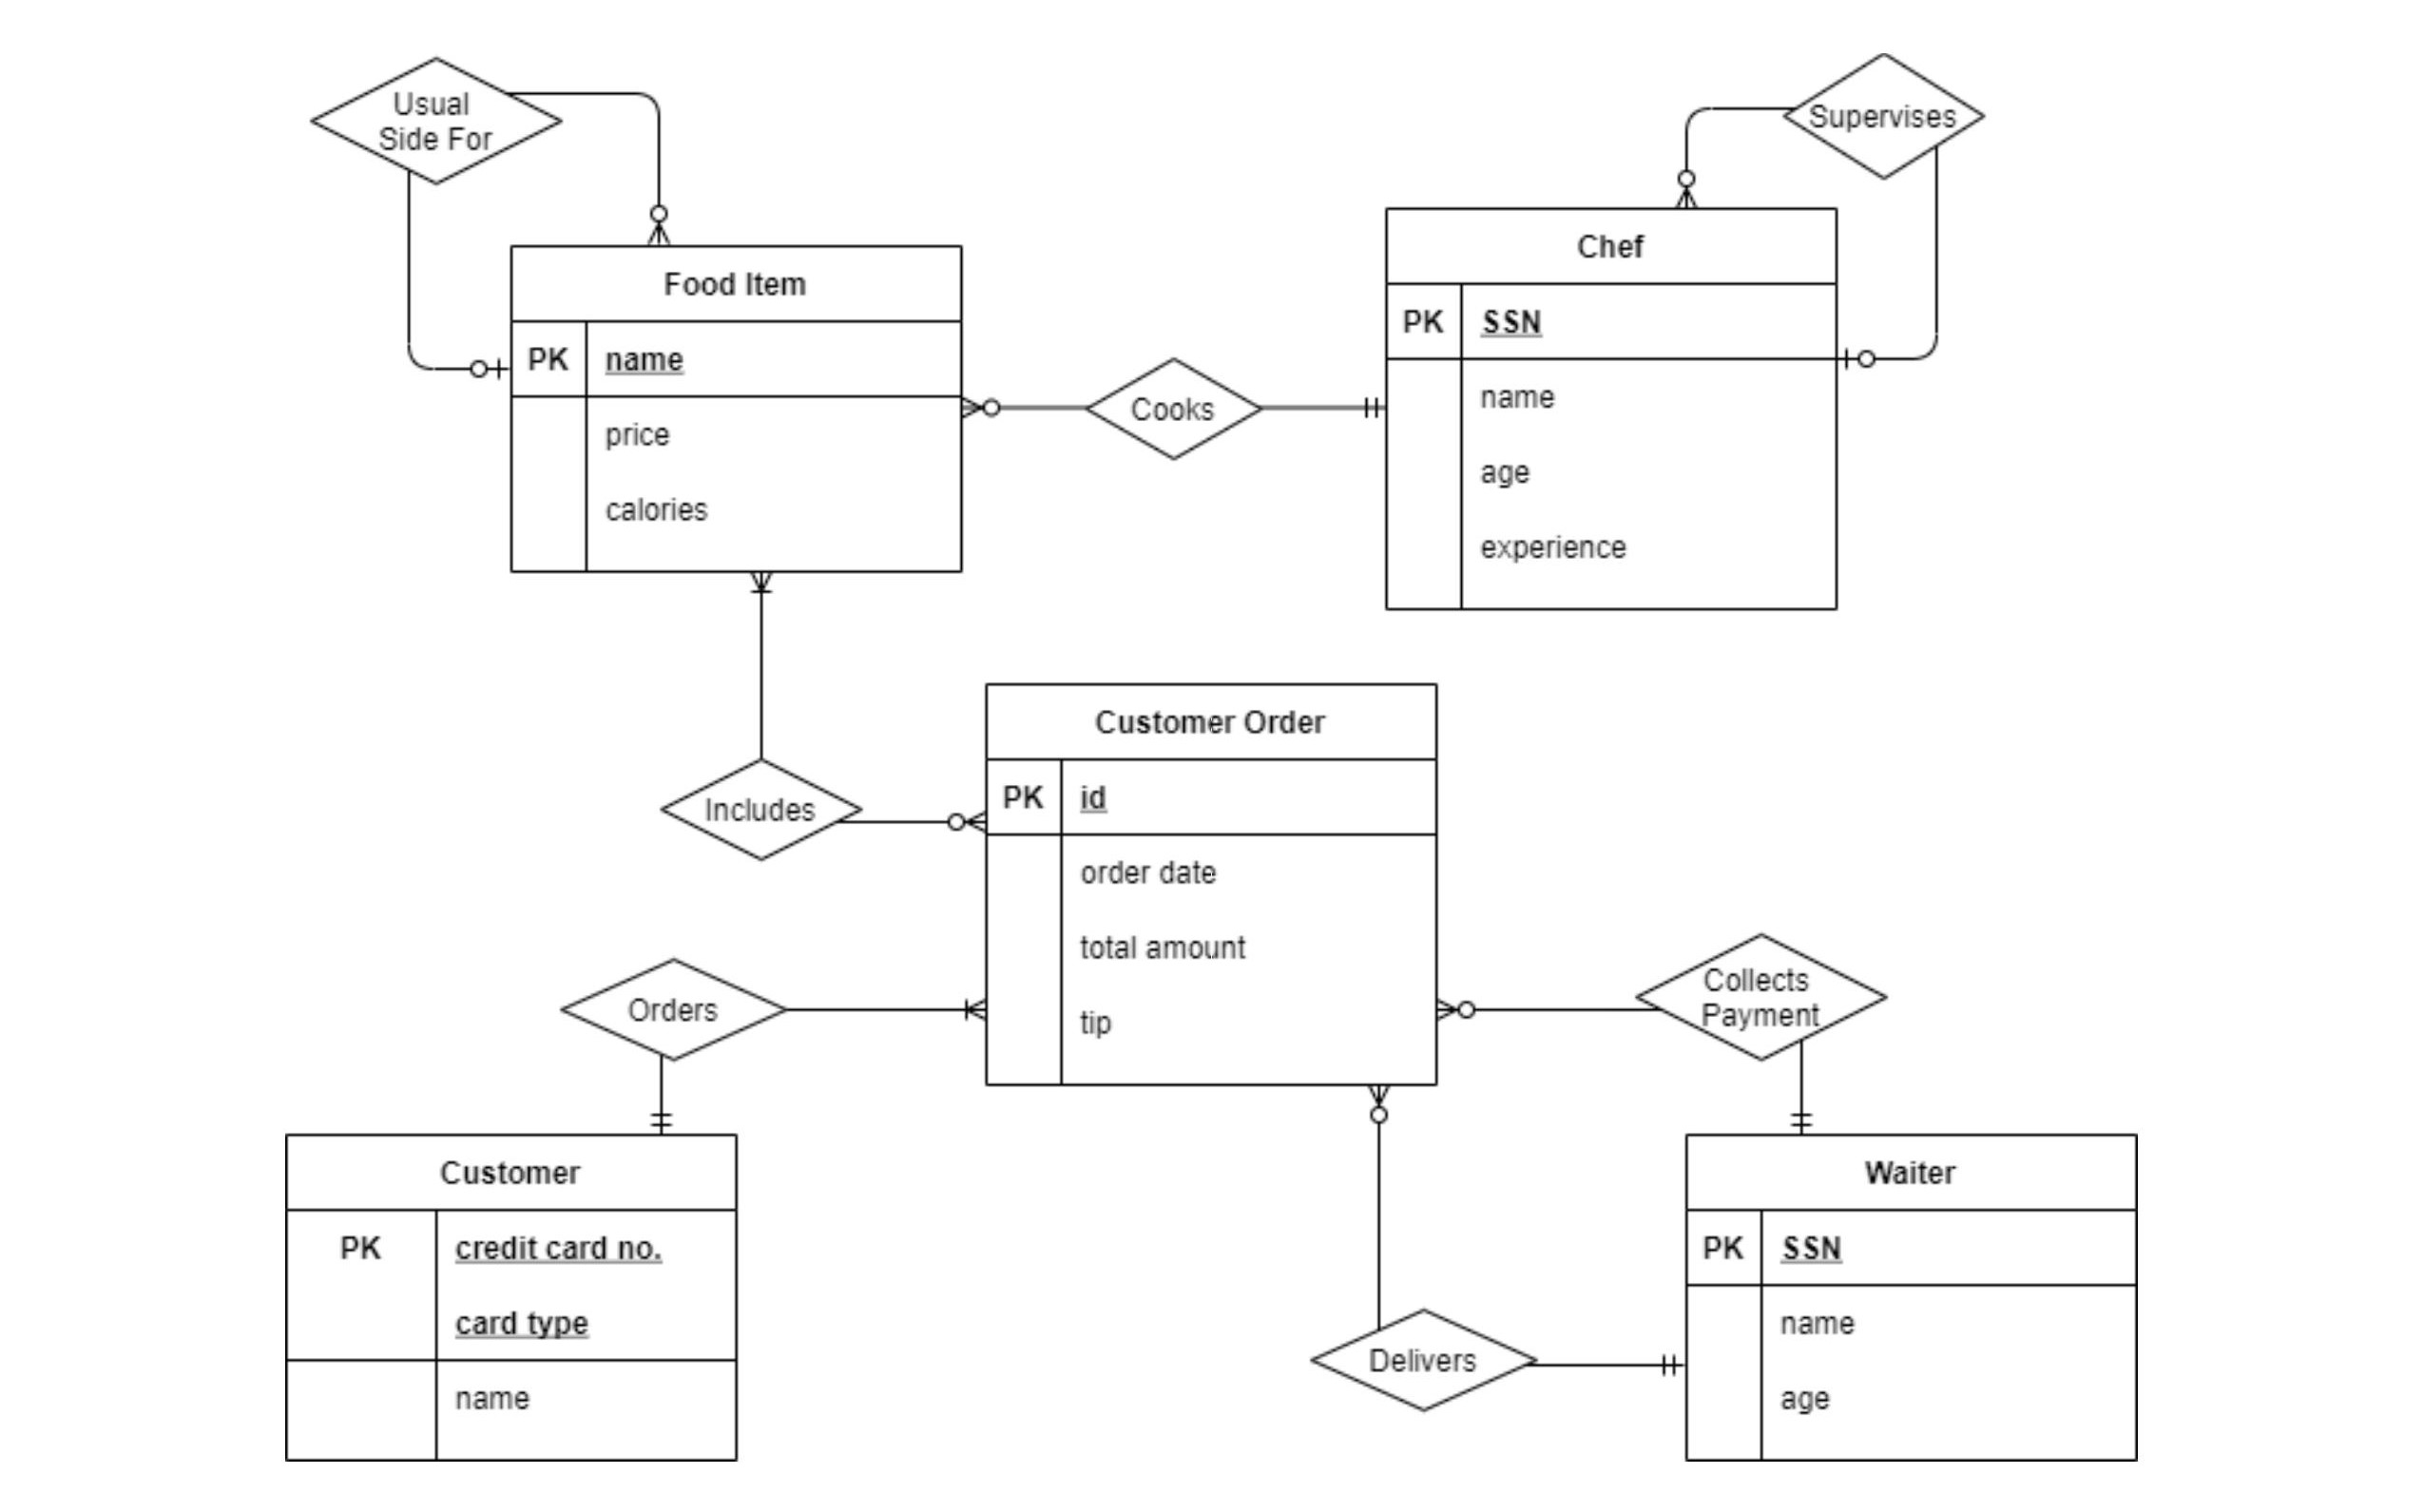Entity: (982, 681, 1440, 1089), (1381, 206, 1841, 611), (1682, 1131, 2145, 1465), (282, 1129, 742, 1463), (507, 244, 965, 577)
Relationship: (308, 57, 562, 186), (1635, 932, 1889, 1059), (1783, 52, 1985, 183), (1308, 1306, 1538, 1411), (561, 956, 785, 1057), (656, 758, 864, 861), (1085, 357, 1261, 462)
